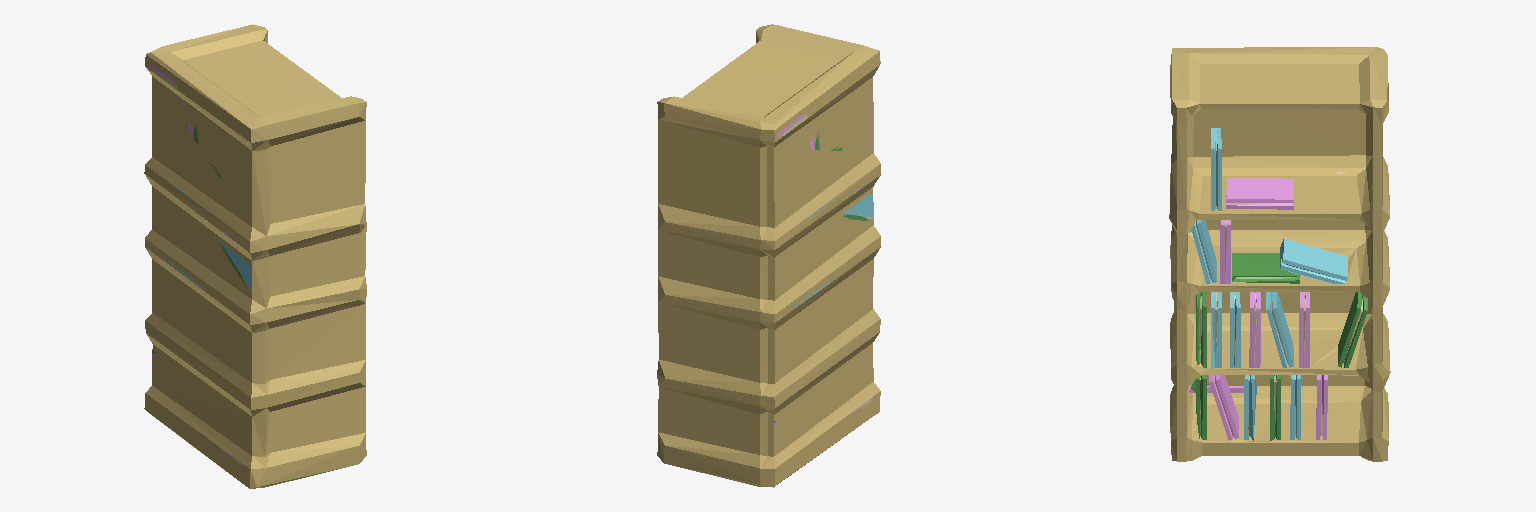
3 views of the same model, side by side, from view 1: azimuth 30°, elevation 25°; view 2: azimuth 150°, elevation 25°; view 3: azimuth 270°, elevation 25° (orthographic).
Parts seen in each view (by area): view 1: 40089_23_05_24_13_28_29; view 2: 40089_23_05_24_13_28_29; view 3: 40089_23_05_24_13_28_29.
Boxes of the visible parts, <box> form: 40089_23_05_24_13_28_29: <box>144,24,366,488</box>; 40089_23_05_24_13_28_29: <box>657,24,880,487</box>; 40089_23_05_24_13_28_29: <box>1169,47,1390,461</box>.
Size of the model in its own units: 4.57 by 13.37 by 7.35.
1 materials, 1 textured.